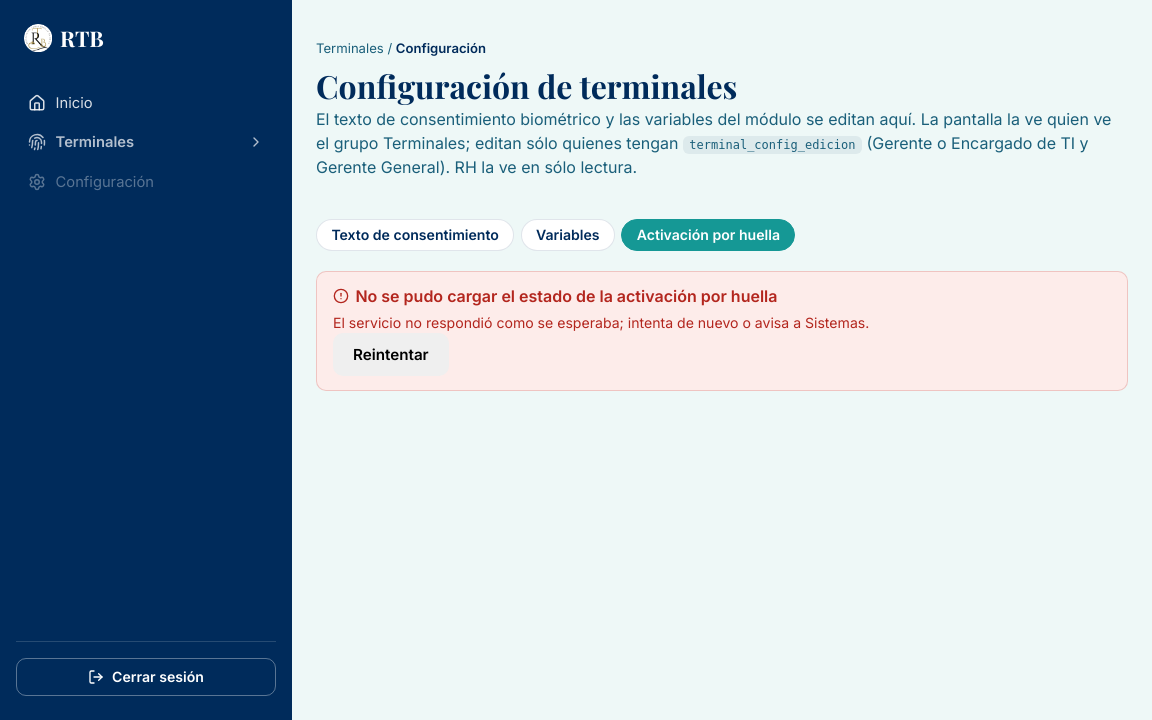
Scenario: ActivacionHuellaPage › estados de carga y error › un 503 es pantalla de error con Reintentar, nunca «apagado»
Expected: the text "No se pudo cargar el estado de la activación por huella" is shown, left=333, top=286, right=778, bottom=306
What coordinates should you click on to do the following:
click the button "Reintentar"
I would click on:
 (391, 354)
Its box is left=333, top=333, right=449, bottom=376.
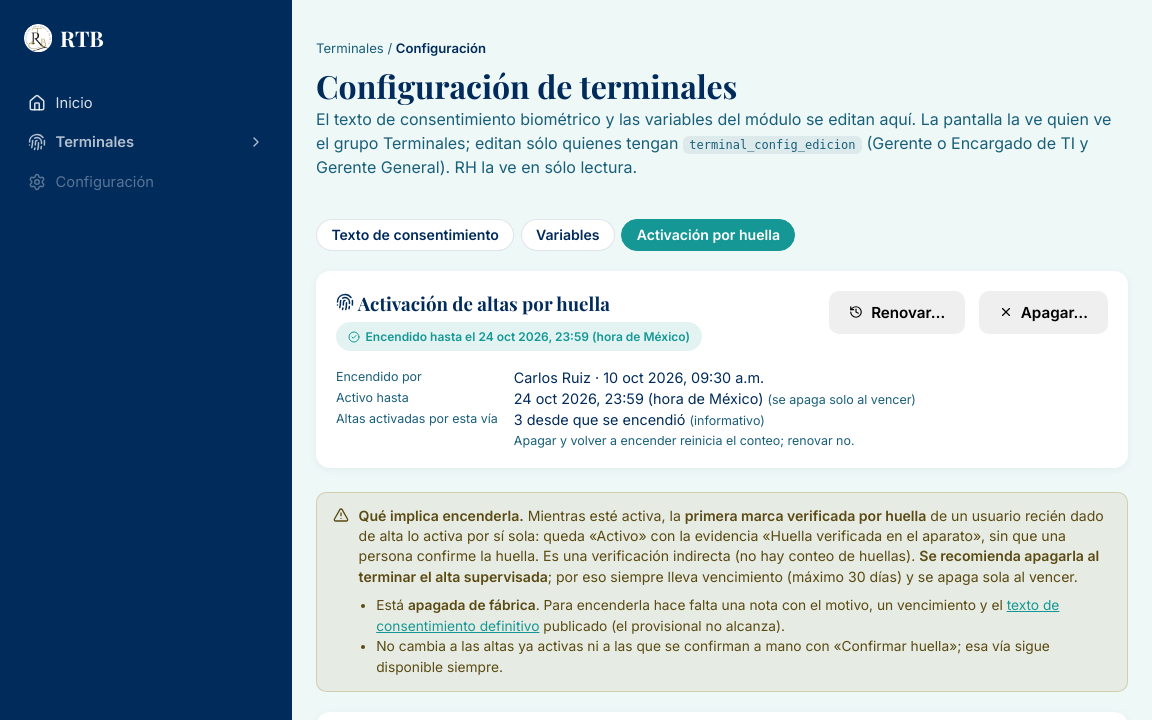
Expected: the text "Encendido hasta el 24 oct 2026, 23:59 (hora de México)" is shown, left=336, top=322, right=702, bottom=351
